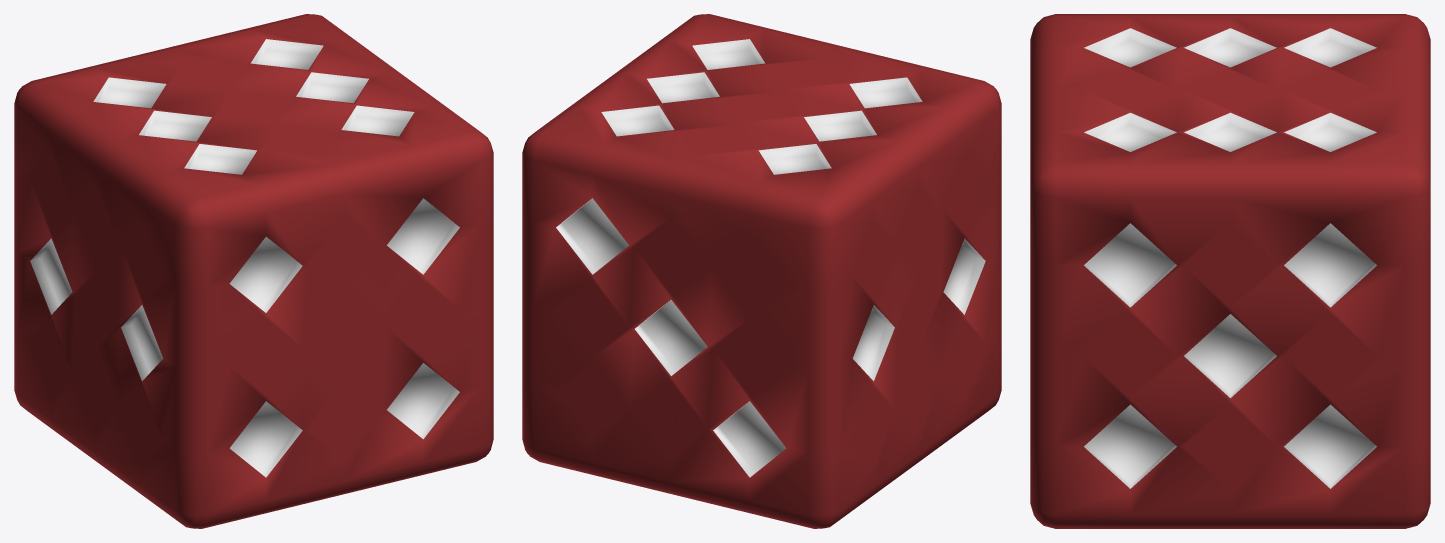
The model's file is dado.glb.
The picture shows the model from 3 angles, left to right: view 1: azimuth 30°, elevation 25°; view 2: azimuth 150°, elevation 25°; view 3: azimuth 270°, elevation 25°; orthographic projection. The views are drawn at different scales.
Parts seen in each view (by area): view 1: Cube; view 2: Cube; view 3: Cube.
Boxes of the visible parts, x1,y1,x2,y2 form: Cube: (14,14,493,528); Cube: (522,14,1001,528); Cube: (1030,14,1430,528).
Bounding box in the file's own units: 2 × 2 × 2.
